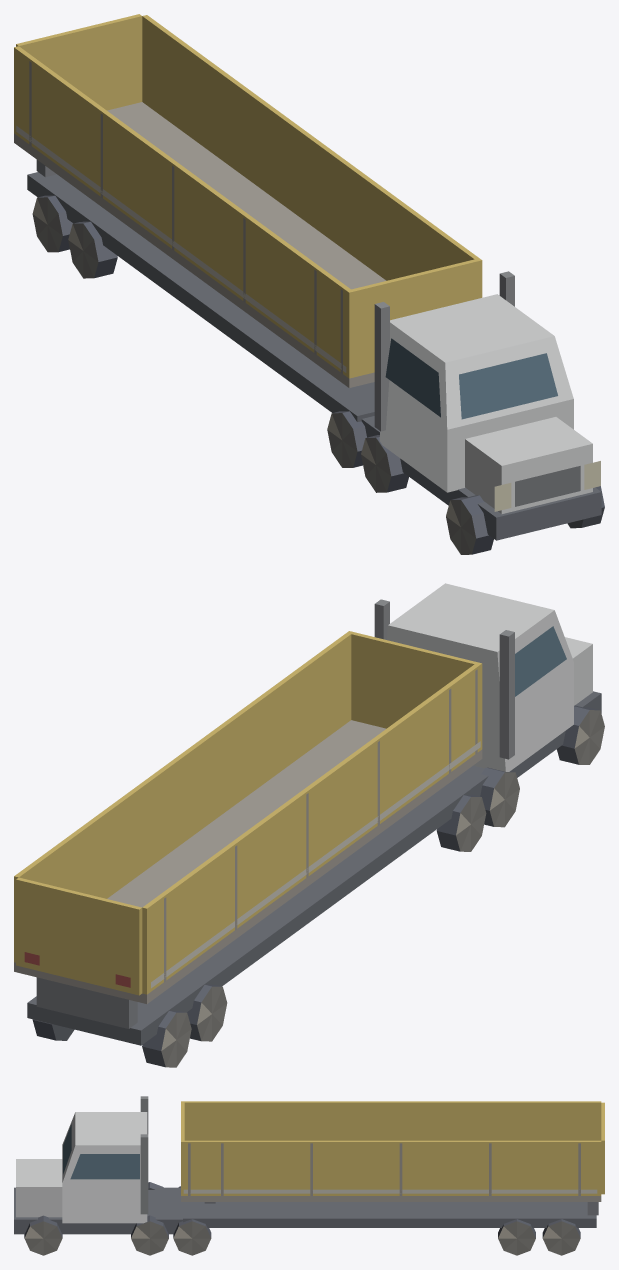
Rendered from grain_hauler_white.glb.
3 views of the same model, one above another, from view 1: azimuth 30°, elevation 25°; view 2: azimuth 150°, elevation 25°; view 3: azimuth 270°, elevation 25° (orthographic). The views are drawn at different scales.
Visible parts, largest first — view 1: DumpBed_Visual, Tractor, Trailer_Hitch, Tailgate_Pivot, Tire_0_L, Tire_3_L, Tire_1_L, Tire_2_L, Tire_4_L; view 2: DumpBed_Visual, Tractor, Trailer_Hitch, Tailgate_Pivot, Tire_0_L, Tire_4_L, Tire_2_L, Tire_1_L, Tire_3_L; view 3: DumpBed_Visual, Tractor, Trailer_Hitch, Tire_0_R, Tire_1_R, Tire_2_R, Tire_4_R, Tire_3_R, Tailgate_Pivot.
Part boxes in pixels (x1,y1,x2,y2): DumpBed_Visual: (14, 15, 482, 387); Tractor: (361, 271, 601, 540); Trailer_Hitch: (27, 160, 374, 421); Tailgate_Pivot: (16, 14, 142, 110); Tire_0_L: (446, 495, 493, 554); Tire_3_L: (68, 221, 117, 278); Tire_1_L: (361, 435, 408, 492); Tire_2_L: (327, 411, 366, 467); Tire_4_L: (32, 195, 72, 252); DumpBed_Visual: (14, 631, 482, 1003); Tractor: (374, 583, 601, 796); Trailer_Hitch: (27, 783, 470, 1045); Tailgate_Pivot: (16, 877, 142, 995); Tire_0_L: (556, 705, 604, 764); Tire_4_L: (142, 1010, 191, 1067); Tire_2_L: (436, 794, 486, 851); Tire_1_L: (480, 767, 519, 827); Tire_3_L: (187, 984, 227, 1041); DumpBed_Visual: (181, 1101, 601, 1201); Tractor: (14, 1096, 182, 1234); Trailer_Hitch: (183, 1202, 598, 1227); Tire_0_R: (24, 1215, 62, 1255); Tire_1_R: (131, 1215, 168, 1255); Tire_2_R: (173, 1219, 211, 1255); Tire_4_R: (542, 1219, 580, 1255); Tire_3_R: (498, 1219, 535, 1255); Tailgate_Pivot: (601, 1102, 604, 1194).
Size of the model in its own units: 2.51 by 3.39 by 15.21.
